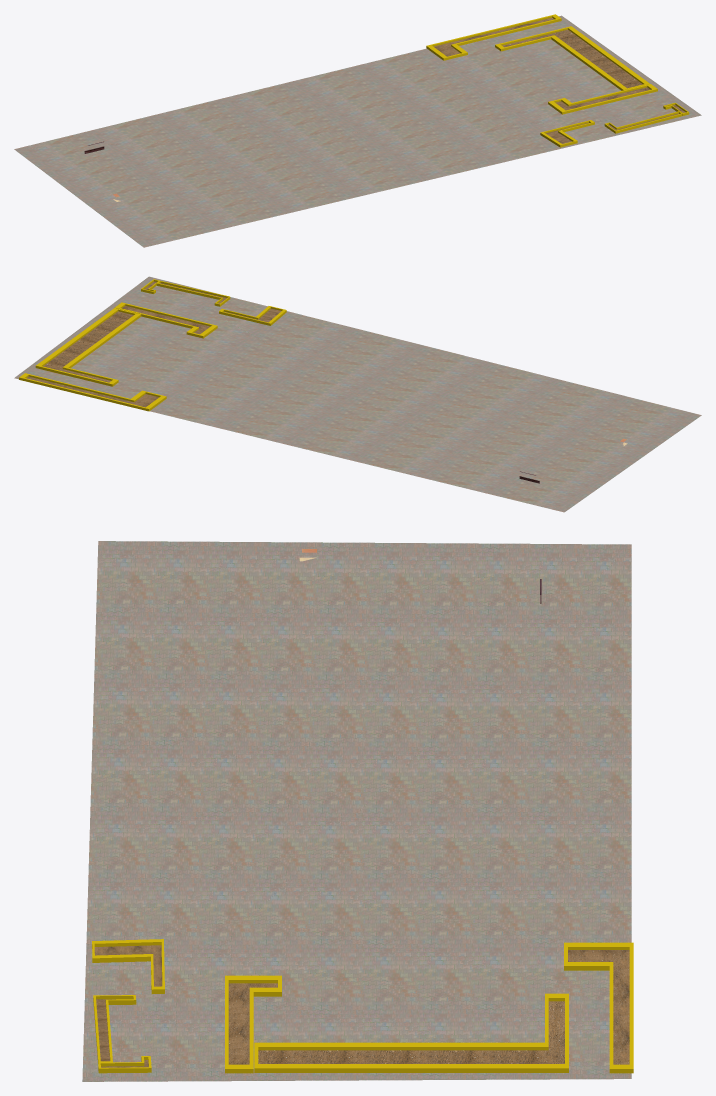
The model's file is doms ground only.glb.
The picture shows the model from 3 angles, top to bottom: view 1: azimuth 30°, elevation 25°; view 2: azimuth 150°, elevation 25°; view 3: azimuth 270°, elevation 25°; orthographic projection. The views are drawn at different scales.
Parts seen in each view (by area): view 1: Plane.002; view 2: Plane.002; view 3: Plane.002.
Part boxes in pixels (left/top/right/bottom): Plane.002: left=14, top=14, right=701, bottom=247; Plane.002: left=14, top=276, right=701, bottom=512; Plane.002: left=82, top=541, right=633, bottom=1081.
Size of the model in its own units: 117 by 1.55 by 50.49.
Materials: 5 (4 with a texture image).
